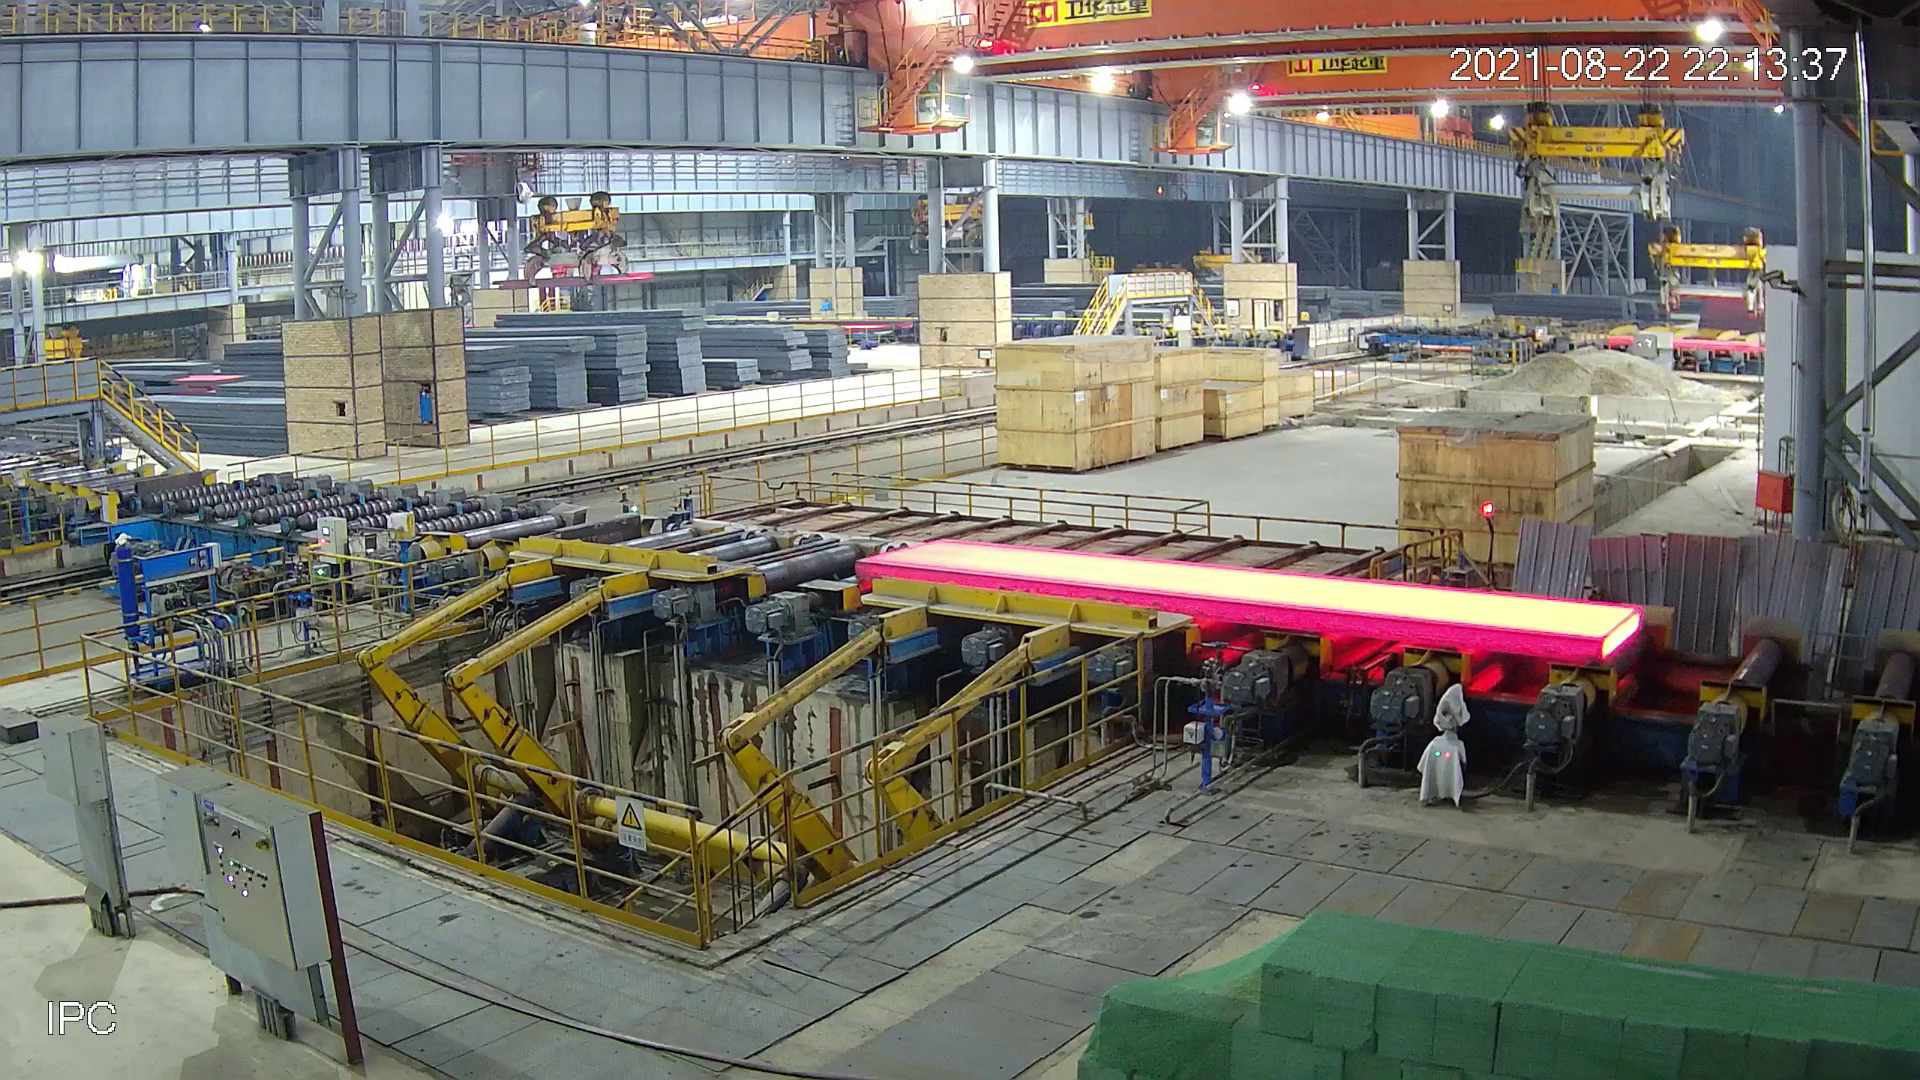slab: (855, 538, 1643, 661)
